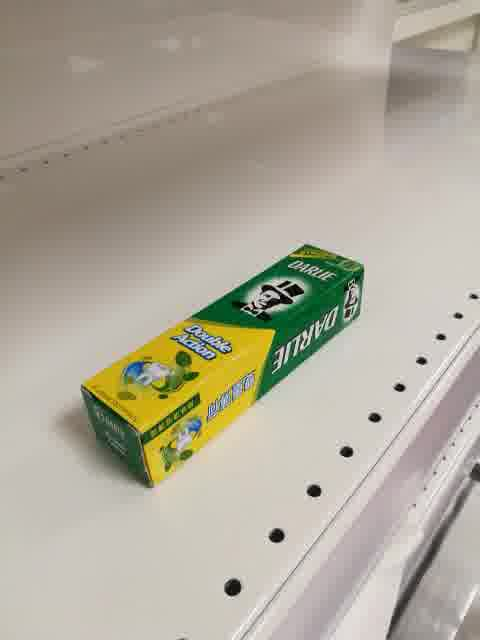toothpaste: (79, 242, 366, 487)
